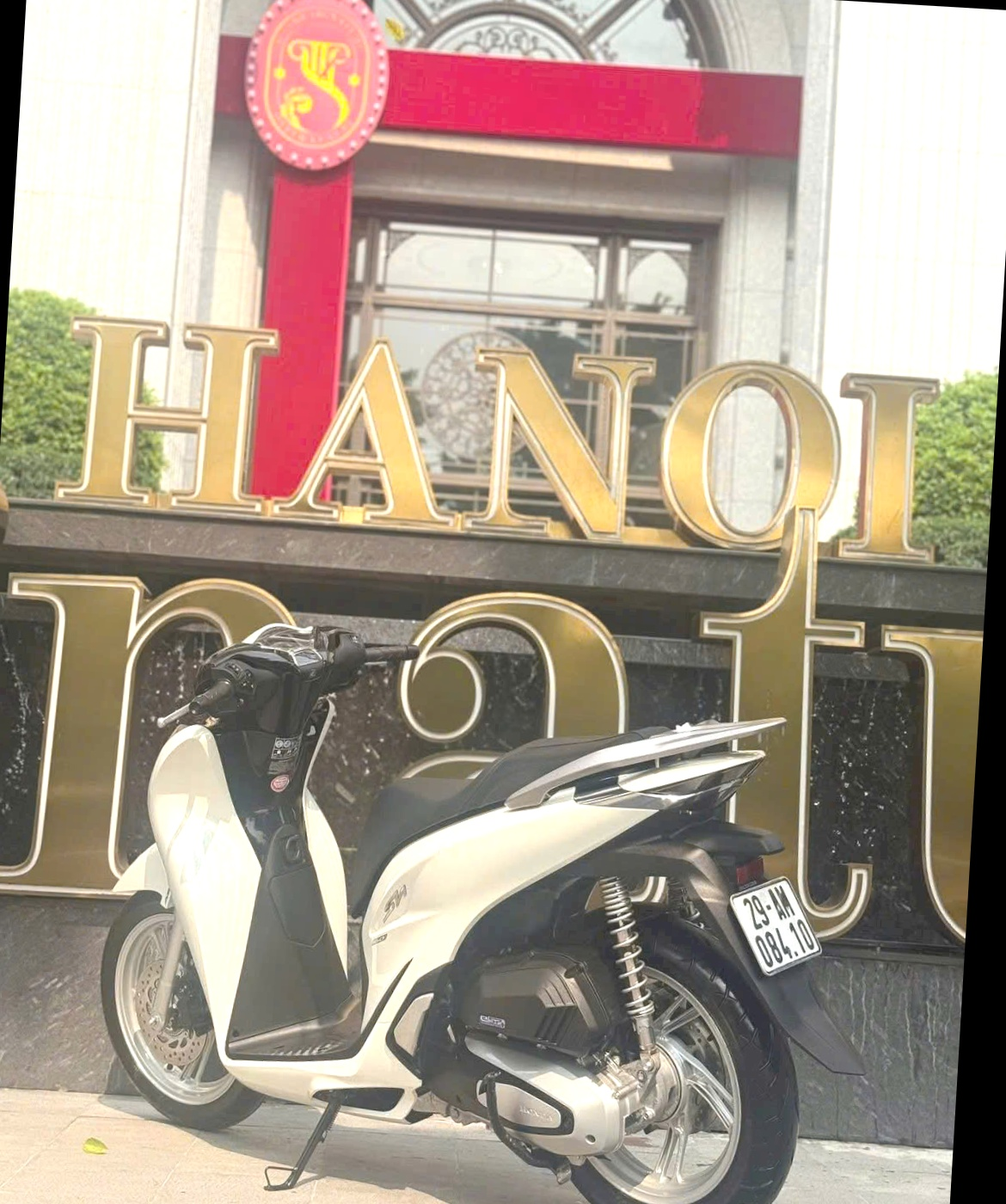Bien-so: (721, 866, 831, 983)
